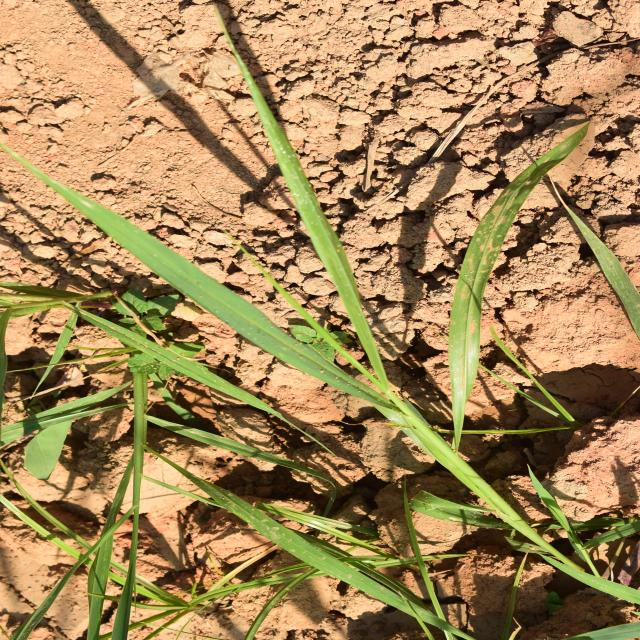green_foxtail: (177, 172, 552, 584)
